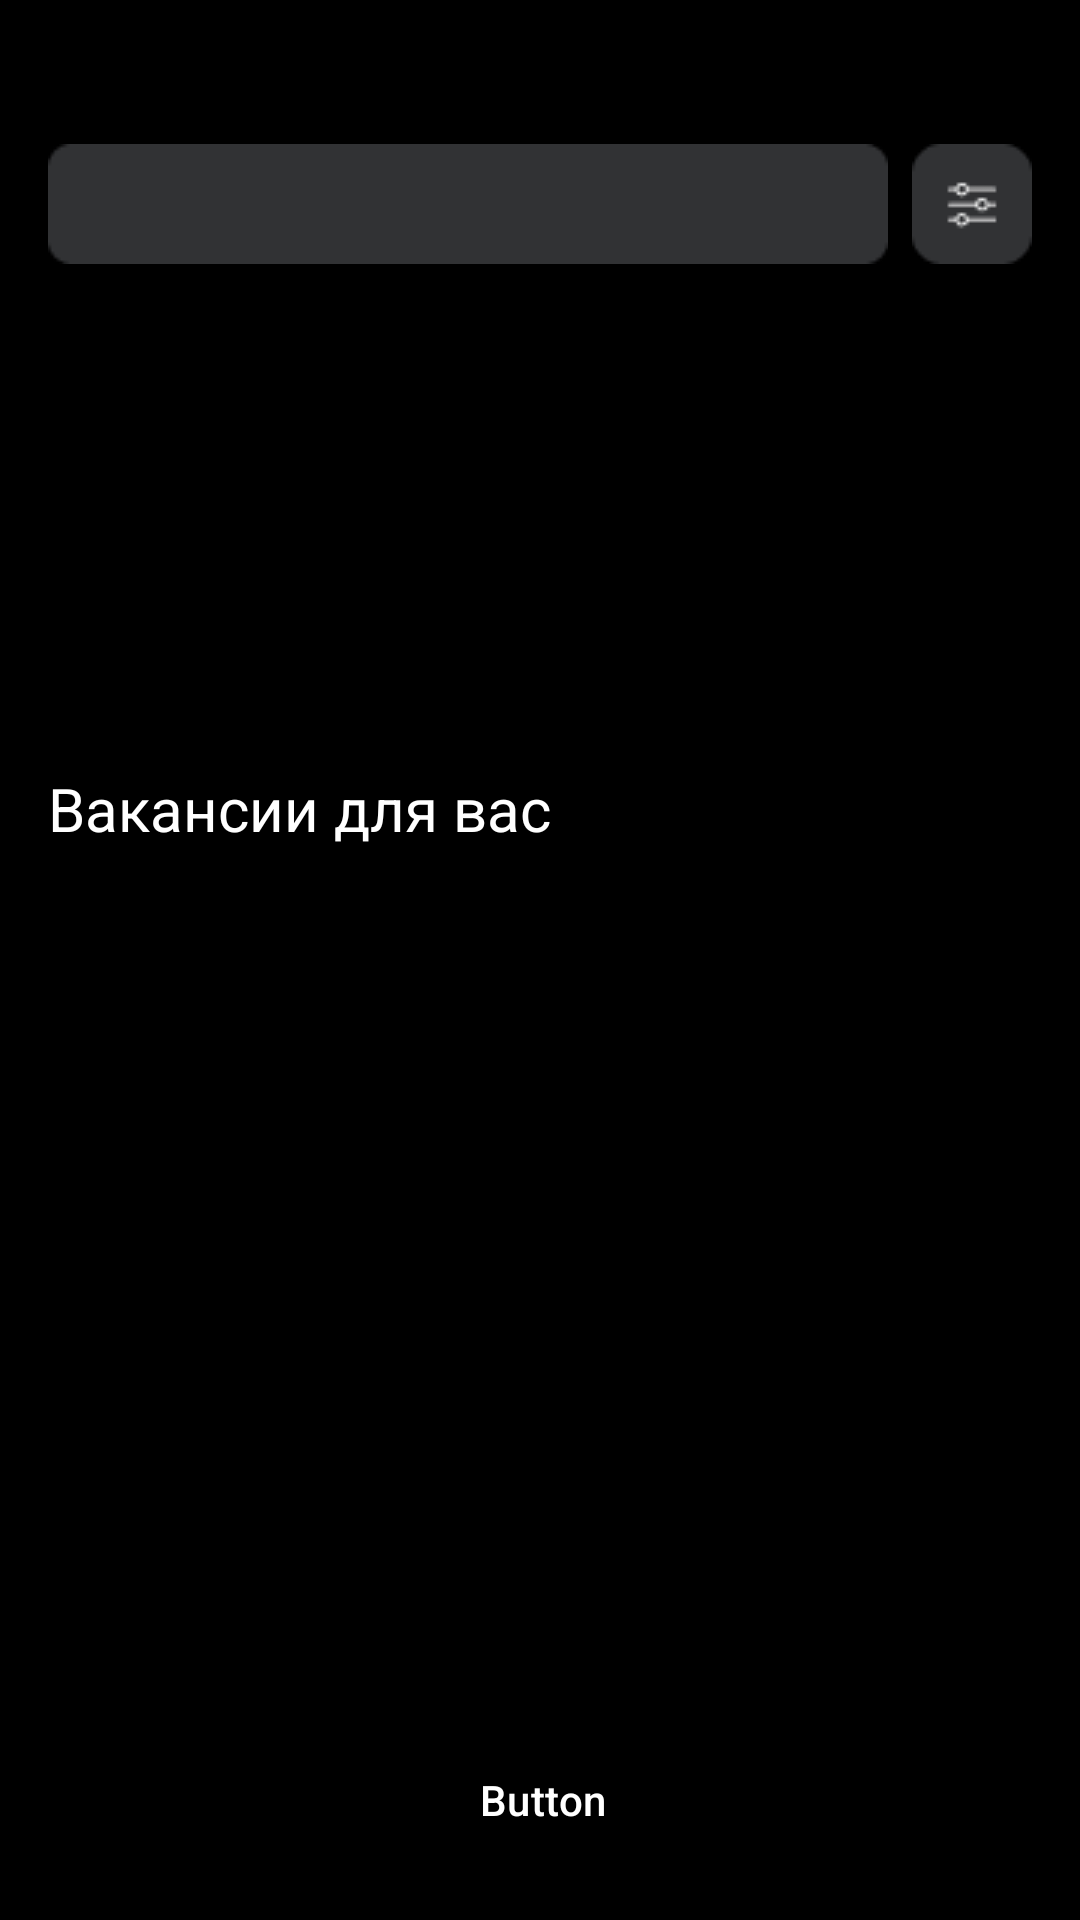

Where to tap for icons on this 1080x1920 app screen, as (x=x, y=y):
settings: (x=972, y=204)
